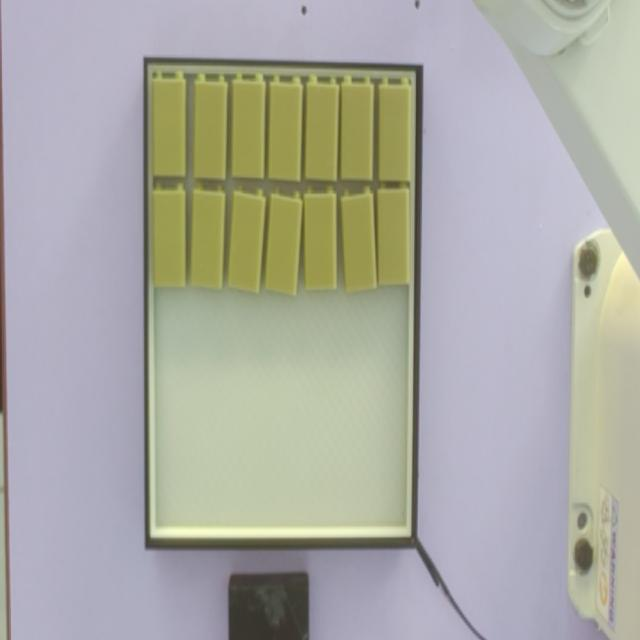bateria: (265, 188, 303, 299), (340, 185, 377, 293), (190, 183, 226, 290), (230, 186, 264, 294), (304, 186, 336, 290), (269, 77, 301, 179), (306, 76, 338, 178), (378, 78, 410, 180), (153, 185, 185, 286), (153, 74, 184, 176), (195, 75, 226, 177), (233, 75, 264, 177), (341, 77, 372, 179), (378, 184, 409, 286)
mesa: (144, 58, 424, 549)
